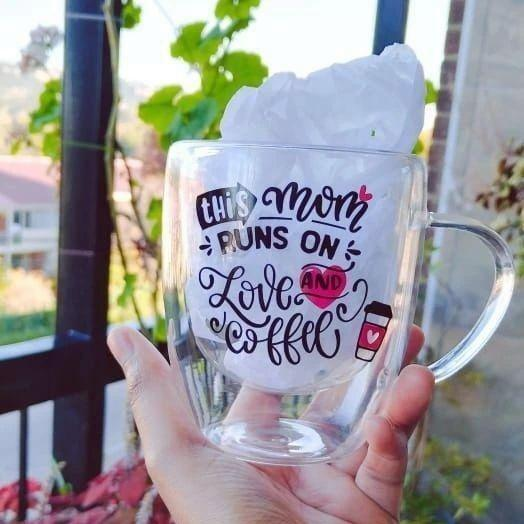glass-mug: (151, 135, 522, 468)
